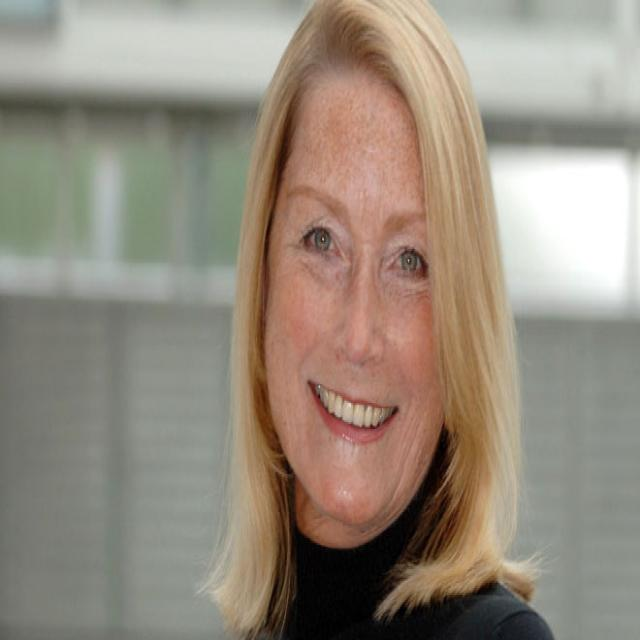human: (178, 1, 537, 640)
